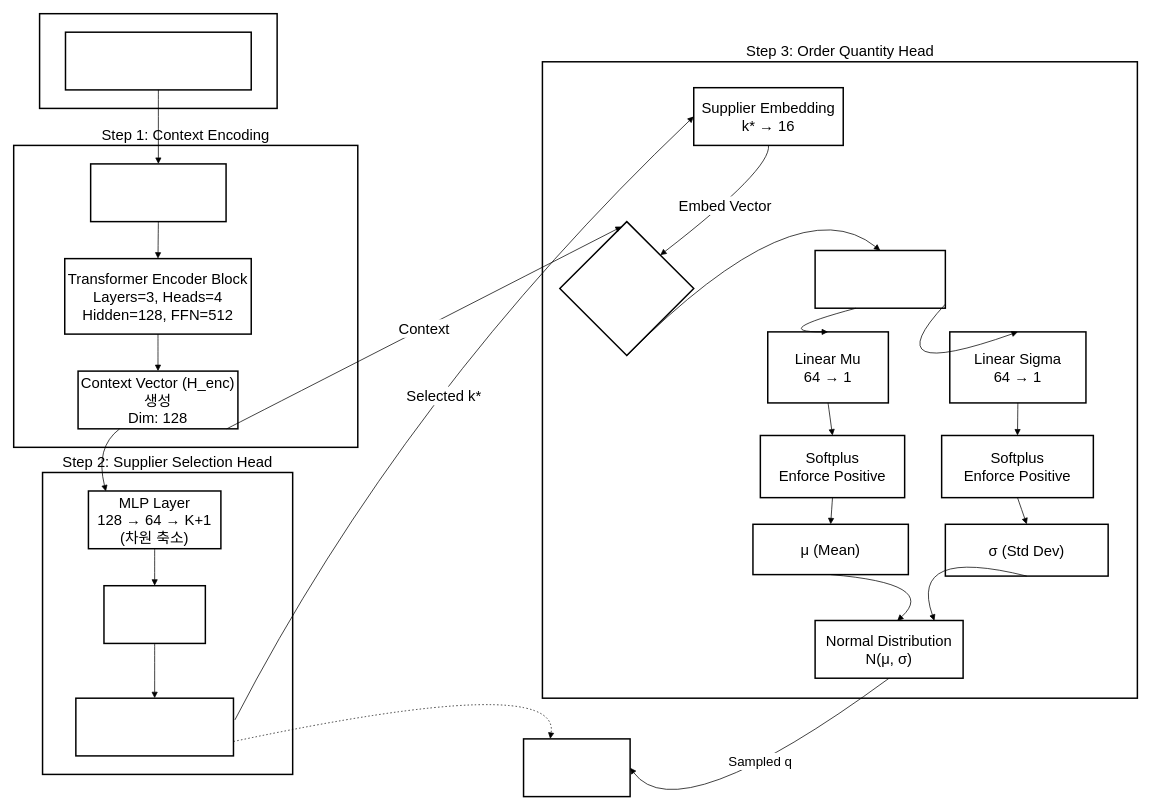
This 1151x810 diagram has some shape labels left out. The centre of each missing label's shape, as x and y in pixels:
Final Action A_t = [k, q]: the point at 576,767
Input Embedding Linear: 12 → 128: the point at 158,192
Sample Supplier k*: the point at 154,726
Shared FC Layer (공통 특징 추출, 앞의 벡터를 주문량 결정을 위한 정보로 변환) 144 → 64: the point at 880,279
Softmax: the point at 154,614
State S_t (Inventory, Pipeline, Time): the point at 158,60
벡터 연결 128 + 16 = 144: the point at 626,288
